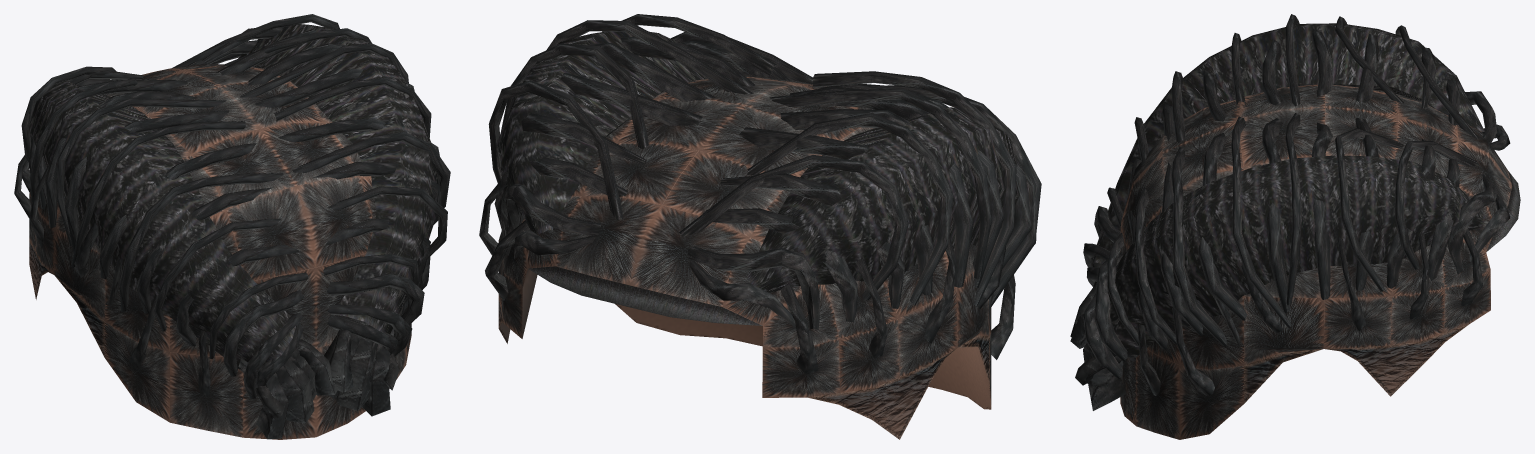
The picture shows the model from 3 angles, left to right: view 1: azimuth 30°, elevation 25°; view 2: azimuth 150°, elevation 25°; view 3: azimuth 270°, elevation 25°; orthographic projection. The views are drawn at different scales.
Parts seen in each view (by area): view 1: geometry_0; view 2: geometry_0; view 3: geometry_0.
Boxes of the visible parts, x1,y1,x2,y2 form: geometry_0: [14, 14, 450, 439]; geometry_0: [479, 14, 1041, 439]; geometry_0: [1070, 14, 1520, 439].
Size of the model in its own units: 1.35 by 1.11 by 1.39.
1 material, 1 textured.
